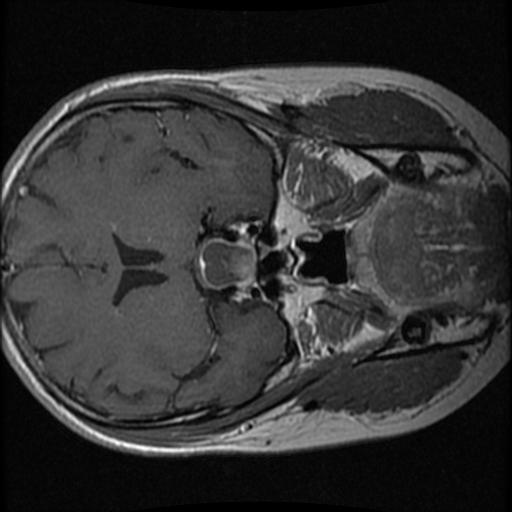pituitary tumour: (199, 240, 256, 287)
